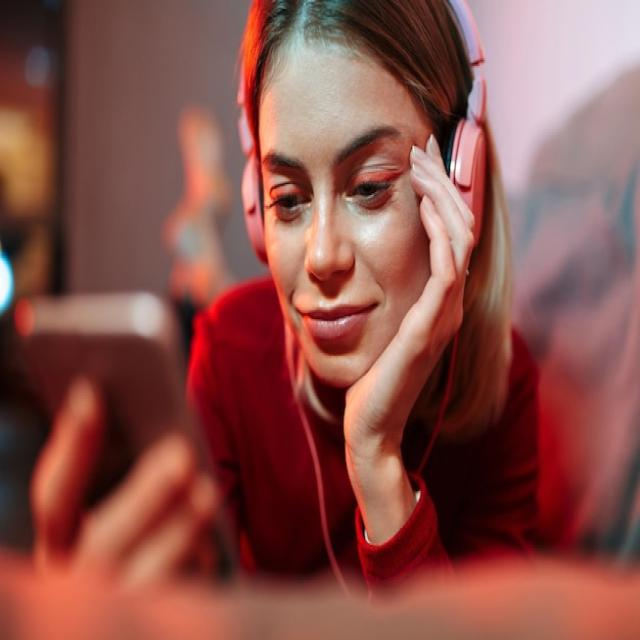Headphone: (233, 0, 490, 272)
